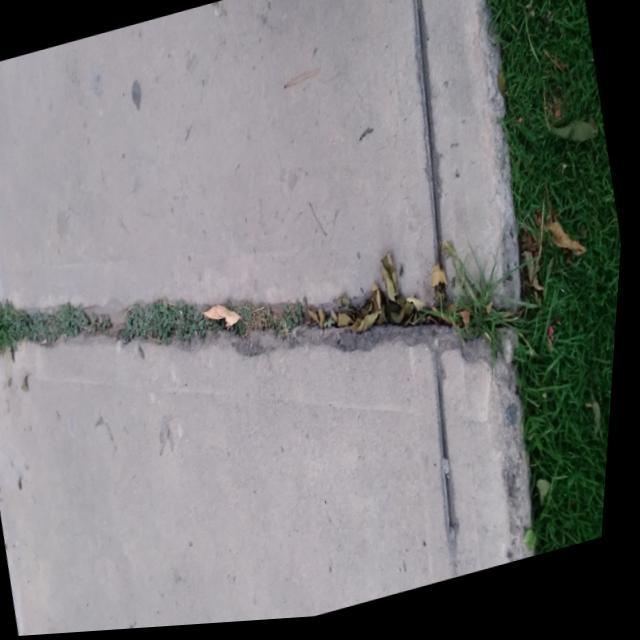hole: (270, 251, 497, 372)
